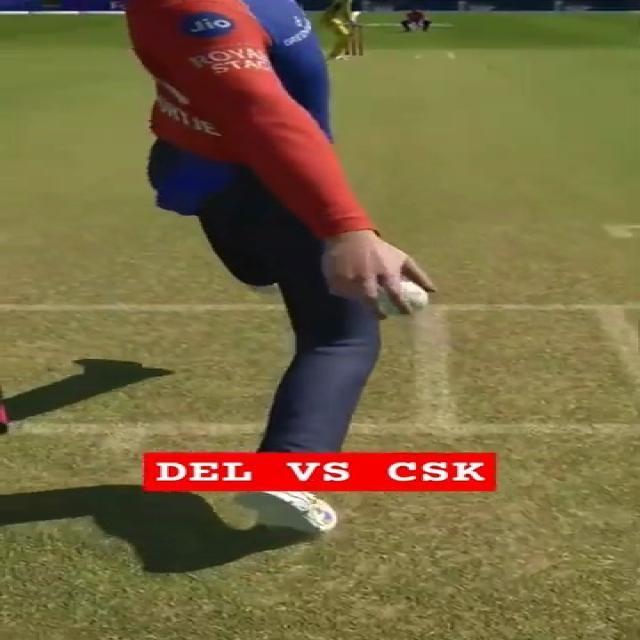ball: (402, 281, 427, 312), (379, 289, 404, 316)
